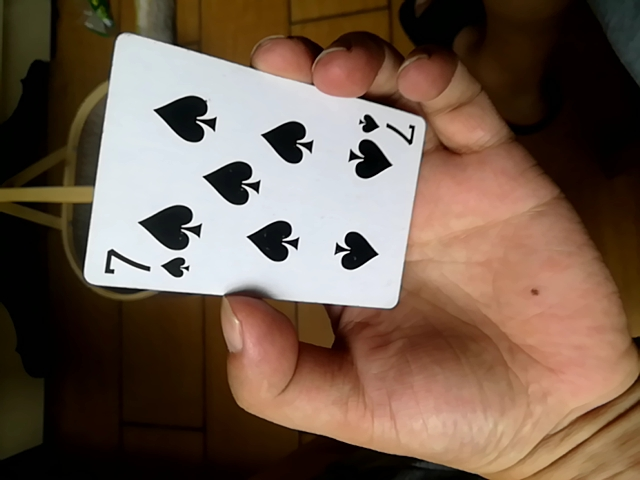ht 7: (90, 35, 424, 314)
